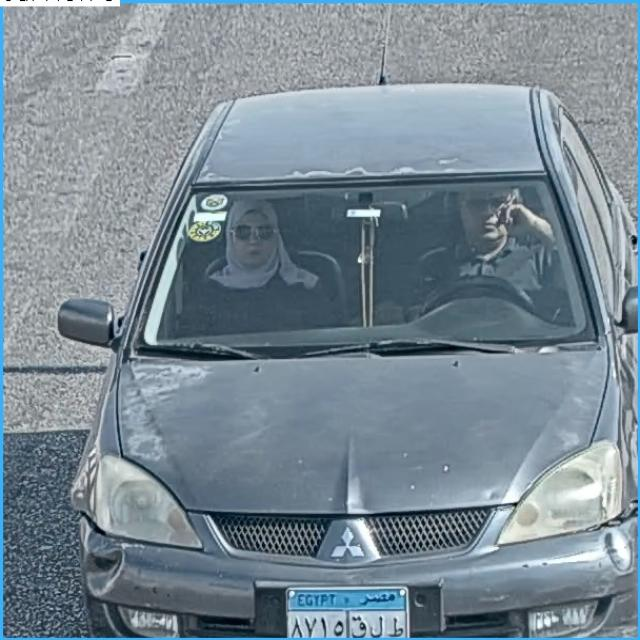windshield: (144, 187, 593, 347)
